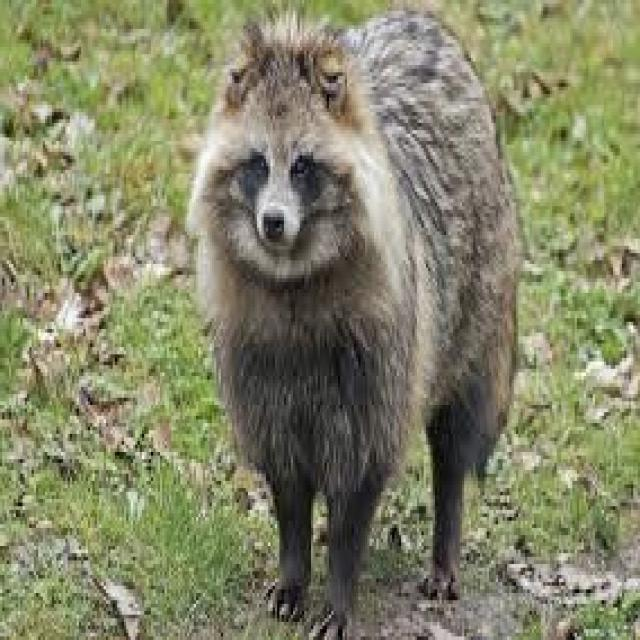raccoon: (189, 11, 518, 636)
